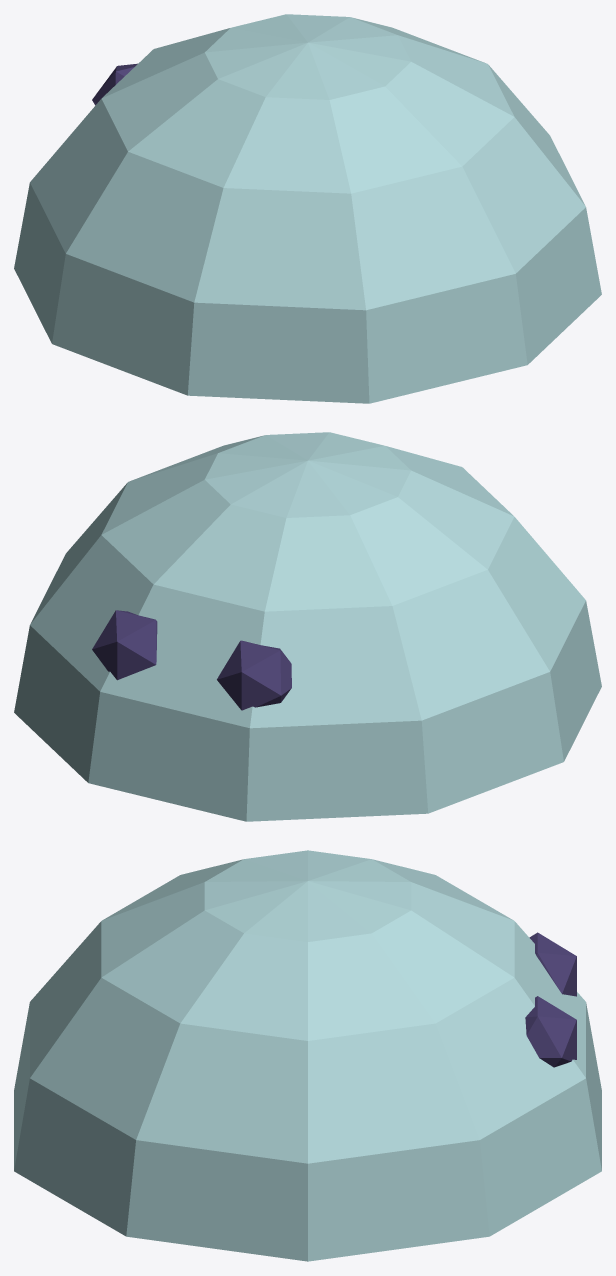
The model's file is UFO_Dome.glb.
3 renders of one model, top to bottom at view 1: azimuth 30°, elevation 25°; view 2: azimuth 150°, elevation 25°; view 3: azimuth 270°, elevation 25°, orthographic. The views are drawn at different scales.
Visible parts, largest first — view 1: UFO_Dome; view 2: UFO_Dome; view 3: UFO_Dome.
Part boxes in pixels (x1,y1,x2,y2): UFO_Dome: [14, 14, 601, 403]; UFO_Dome: [14, 432, 601, 821]; UFO_Dome: [14, 850, 601, 1261].
Bounding box in the file's own units: 7.4 × 3.3 × 7.04.
